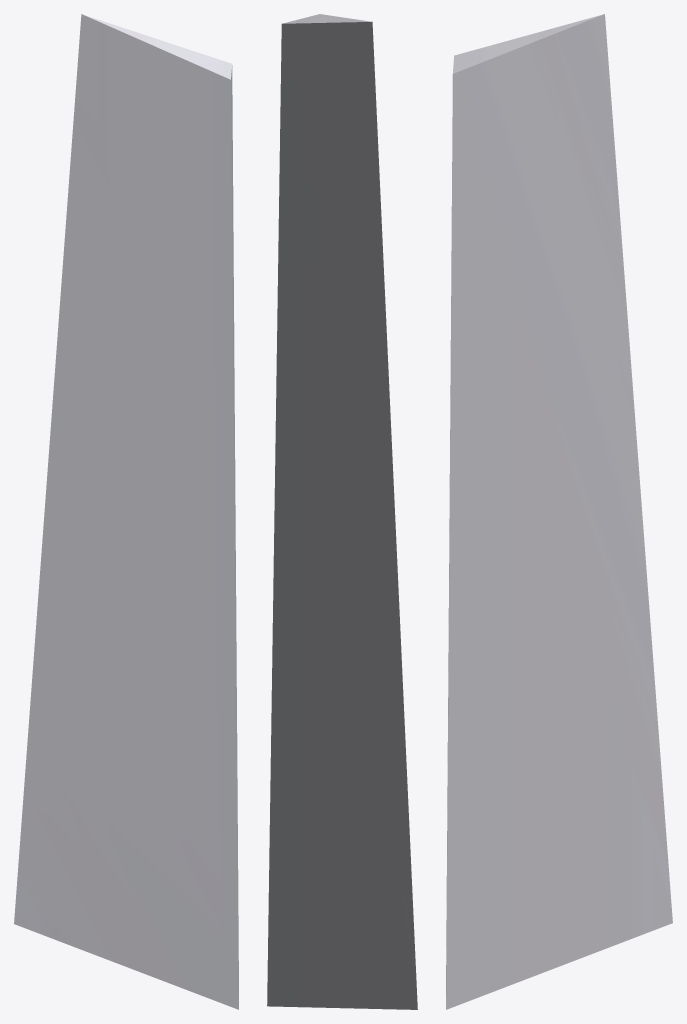
The model's file is Rudder.glb.
The picture shows the model from 3 angles, left to right: view 1: azimuth 90°, elevation 25°; view 2: azimuth 210°, elevation 25°; view 3: azimuth 270°, elevation 25°; orthographic projection. The views are drawn at different scales.
Parts seen in each view (by area): view 1: awionetka.004; view 2: awionetka.004; view 3: awionetka.004.
Part boxes in pixels (x1,y1,x2,y2): awionetka.004: (14,14,238,1009); awionetka.004: (267,14,417,1009); awionetka.004: (446,14,672,1009).
Bounding box in the file's own units: 0.7644 × 12.36 × 2.58.
1 material, 1 textured.
